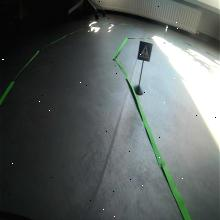crosswalk: (138, 40, 153, 62)
